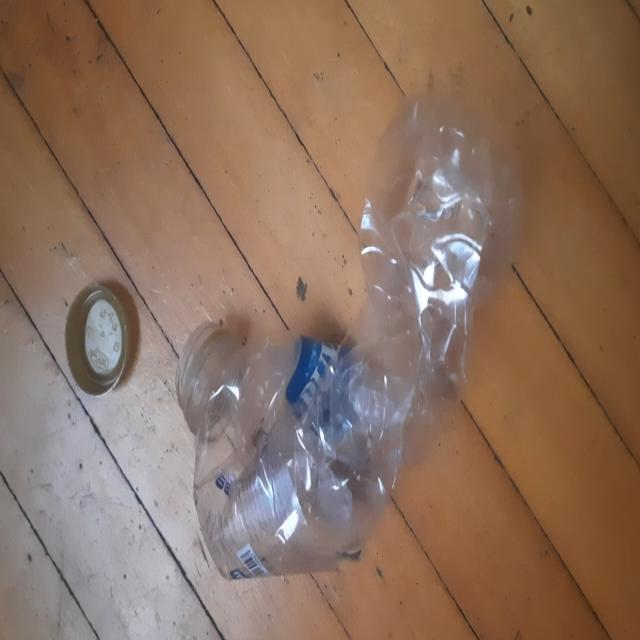Plastic: (183, 89, 522, 580)
